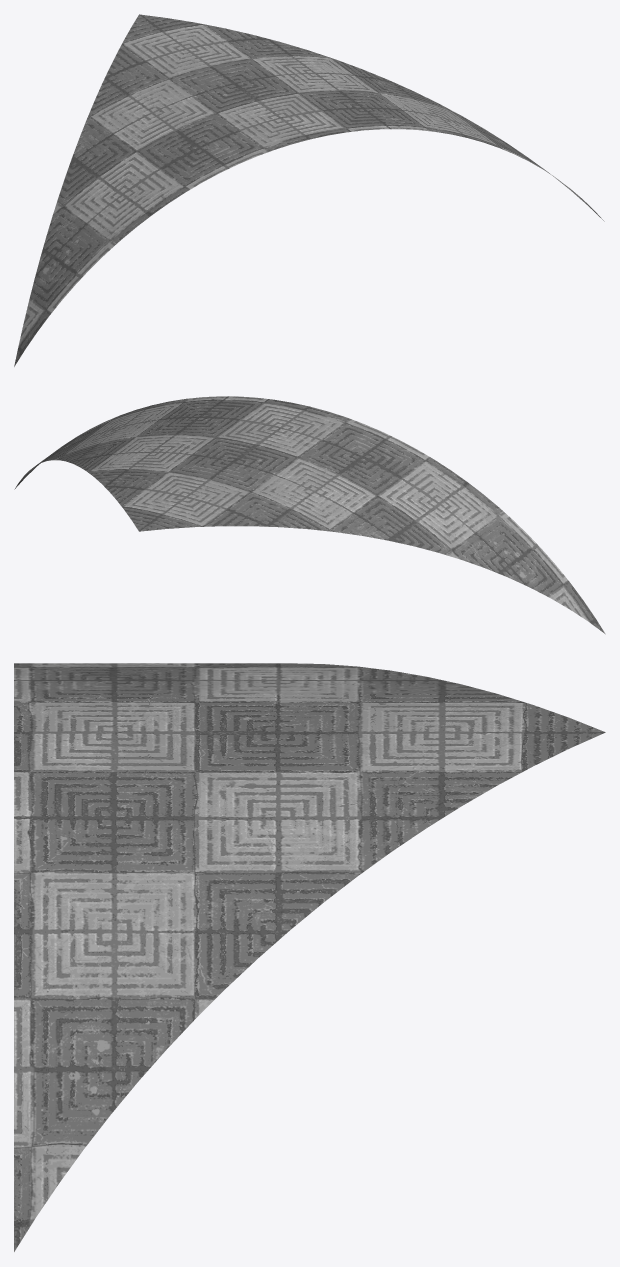
File: FBX_Ceiling_Open_Opposite.fbx
3 renders of one model, top to bottom at view 1: azimuth 30°, elevation 25°; view 2: azimuth 150°, elevation 25°; view 3: azimuth 270°, elevation 25°, orthographic. The views are drawn at different scales.
Parts seen in each view (by area): view 1: Ceiling_Open_Opposite; view 2: Ceiling_Open_Opposite; view 3: Ceiling_Open_Opposite.
Boxes of the visible parts, x1,y1,x2,y2 form: Ceiling_Open_Opposite: (14,14,604,366); Ceiling_Open_Opposite: (14,396,605,634); Ceiling_Open_Opposite: (14,663,605,1251).
Bounding box in the file's own units: 962 × 242 × 481.
